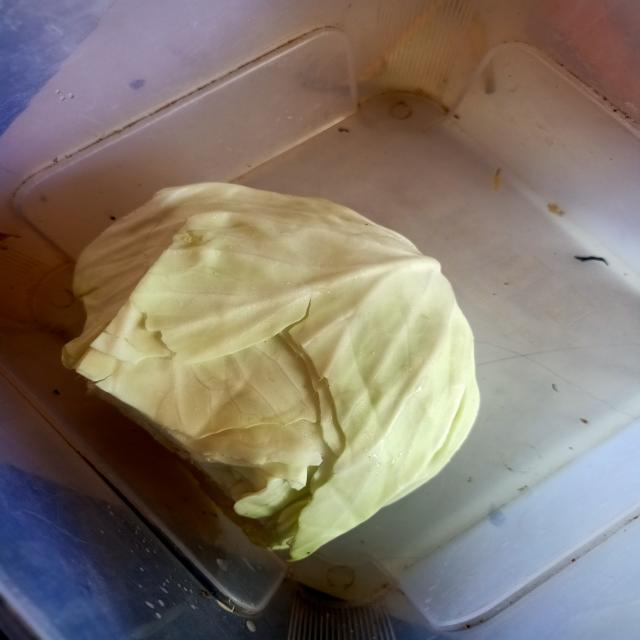Cabbage: (58, 173, 558, 567)
